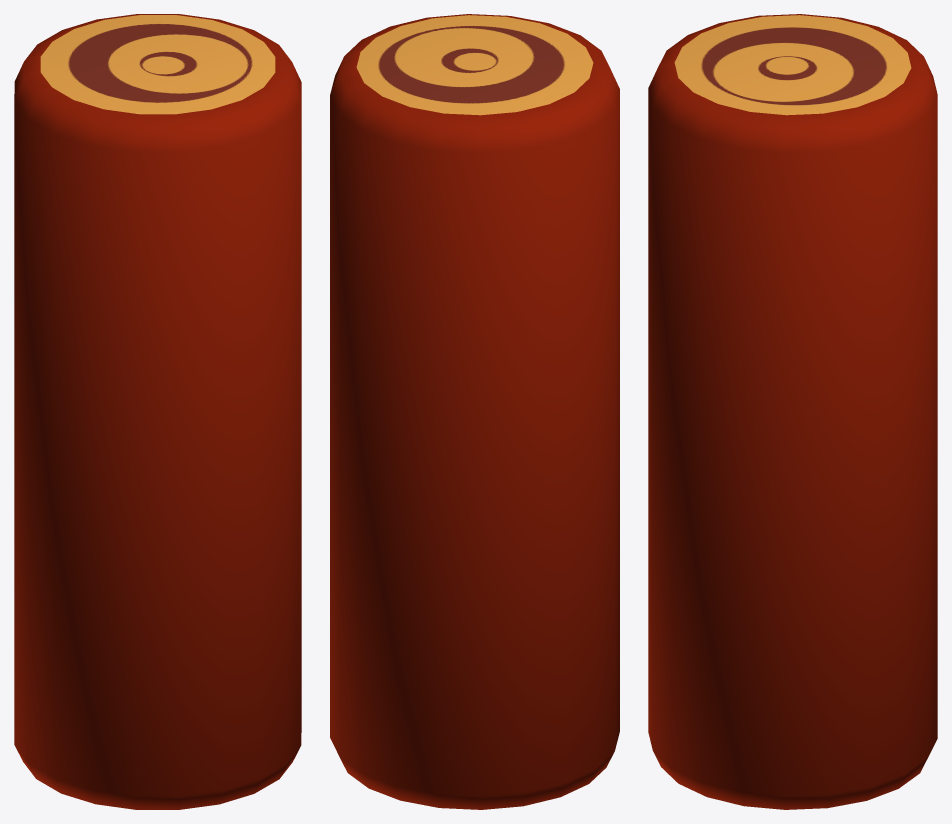
File: LogDark.fbx
3 views of the same model, side by side, from view 1: azimuth 30°, elevation 25°; view 2: azimuth 150°, elevation 25°; view 3: azimuth 270°, elevation 25° (orthographic).
Parts seen in each view (by area): view 1: LogsBig; view 2: LogsBig; view 3: LogsBig.
Boxes of the visible parts, left/top/right/bottom form: LogsBig: left=14, top=14, right=301, bottom=809; LogsBig: left=330, top=14, right=619, bottom=809; LogsBig: left=648, top=14, right=937, bottom=809.
Bounding box in the file's own units: 4.65 × 12.32 × 4.65.
